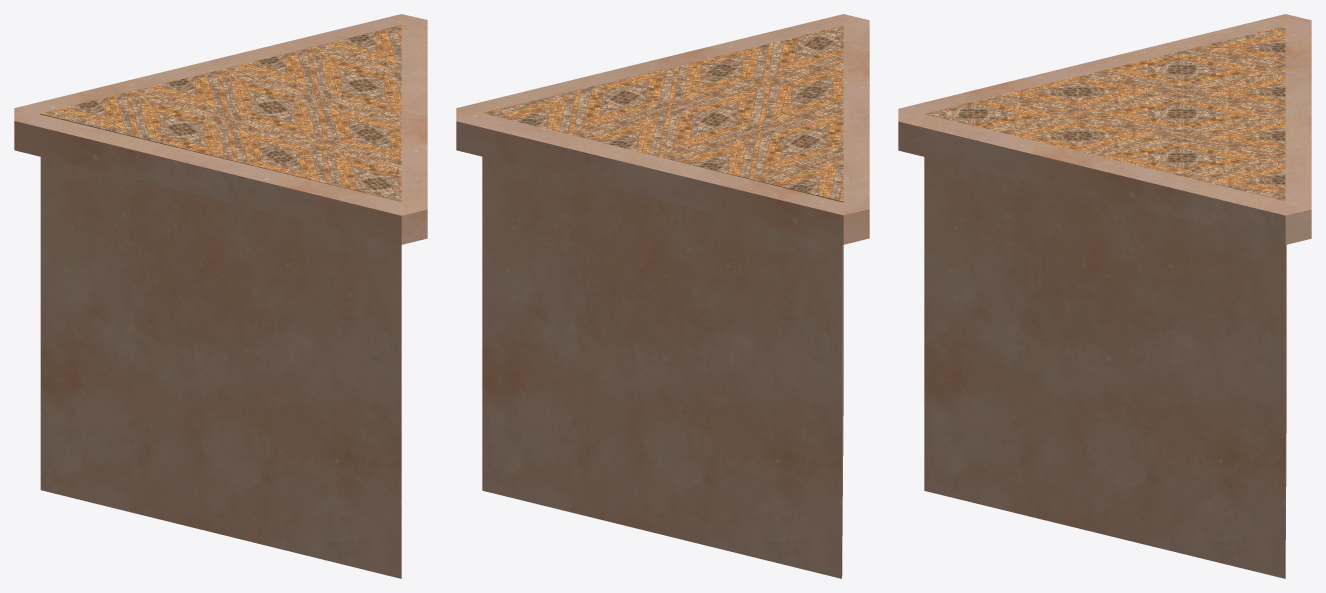
3 views of the same model, side by side, from view 1: azimuth 30°, elevation 25°; view 2: azimuth 150°, elevation 25°; view 3: azimuth 270°, elevation 25° (orthographic).
Parts seen in each view (by area): view 1: SM_BB_T4_Foundation_Triangle_Large_02_LOD0; view 2: SM_BB_T4_Foundation_Triangle_Large_02_LOD0; view 3: SM_BB_T4_Foundation_Triangle_Large_02_LOD0.
Boxes of the visible parts, <box> form: SM_BB_T4_Foundation_Triangle_Large_02_LOD0: <box>14,14,427,578</box>; SM_BB_T4_Foundation_Triangle_Large_02_LOD0: <box>456,14,869,578</box>; SM_BB_T4_Foundation_Triangle_Large_02_LOD0: <box>898,14,1311,578</box>.
Bounding box in the file's own units: 3.43 × 3 × 2.97.
2 materials, 2 textured.
